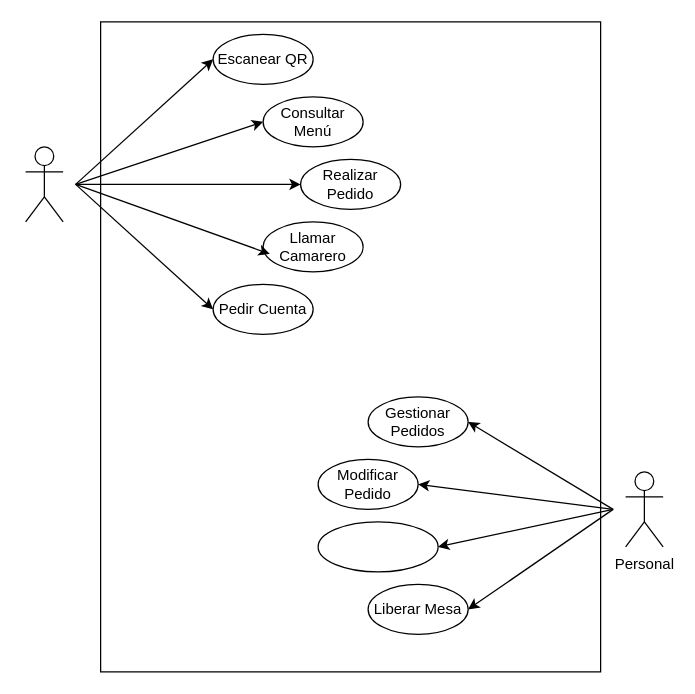
Image size: 695x694. Some labels were removed from this diagram. The box of each missing label's shape, as (x1, y1, x2, y2) in pixels:
Cliente: (24, 146, 63, 222)
Recibir Notificaciones: (317, 521, 438, 572)
